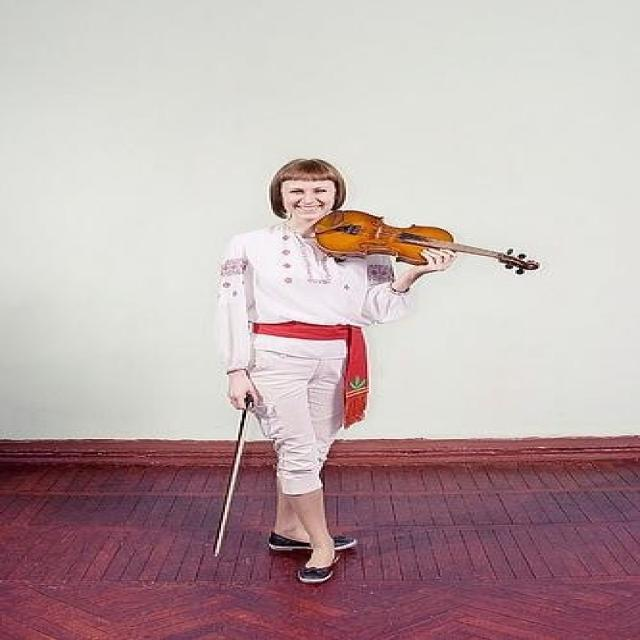violin: (310, 208, 546, 276)
